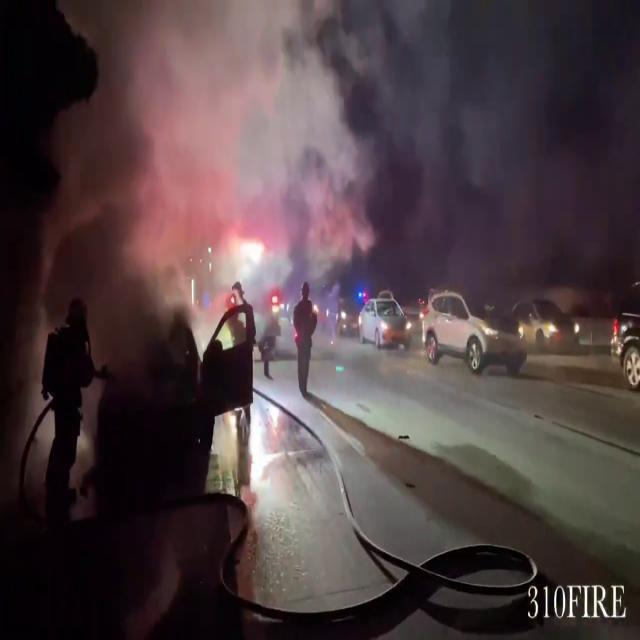Smoke: (37, 2, 364, 284)
